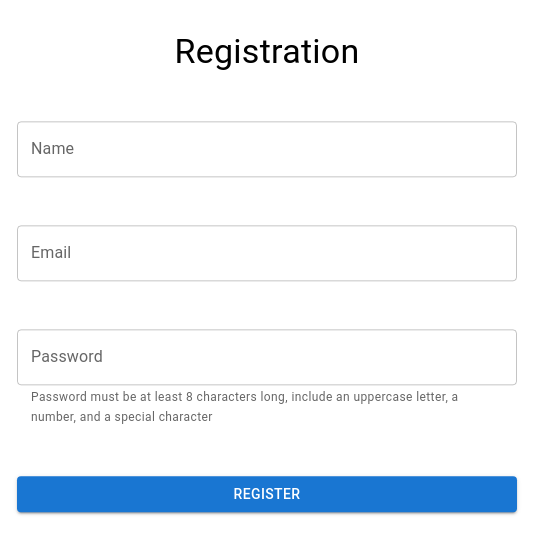
it: registration › displays validation errors for invalid input
The width and height of the screenshot is (535, 556).
Type "invalid-email" into the field labelled "Email" at point(267, 253), box [17,225,517,281]
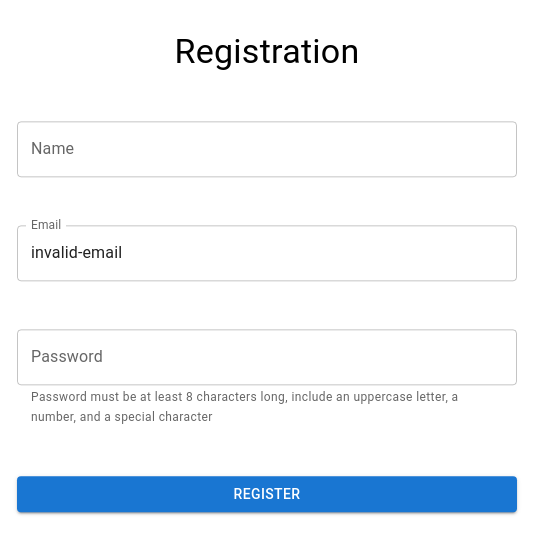
Type "weak" into the password field labelled "Password" at point(267, 357), box [17,329,517,385]
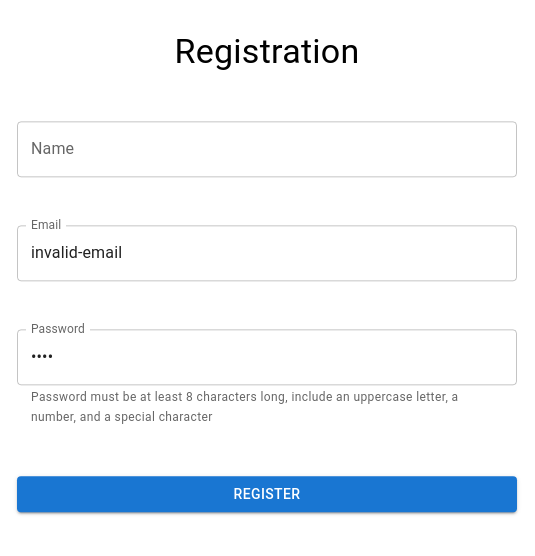
Click the button "Register" at point(267, 494), box [17,476,517,513]
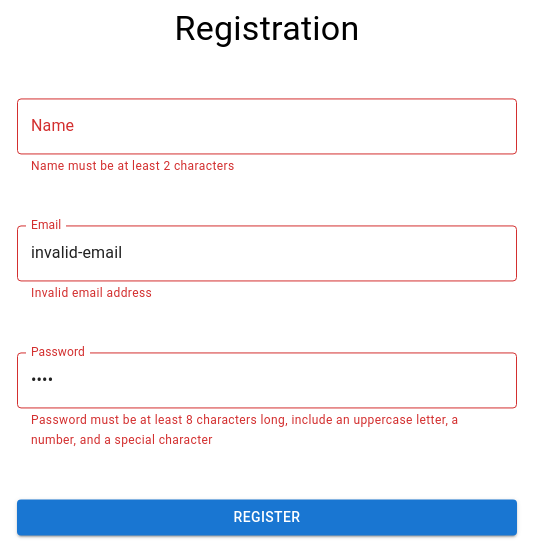
Expected: the text "Password must be at least 8 characters long, include an uppercase letter, a number, and a special character" is shown, [31,413,458,447]
Result: the text "Name must be at least 2 characters" is shown at [31,159,234,173]
Result: the text "Invalid email address" is shown at [31,286,152,300]
